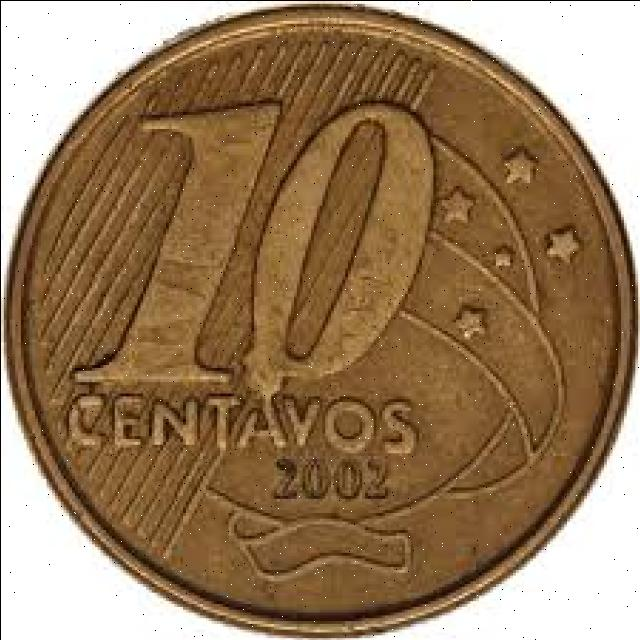10 cent: (14, 0, 624, 640)
